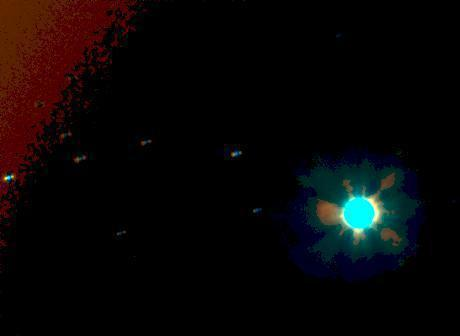star: (345, 219, 375, 249)
